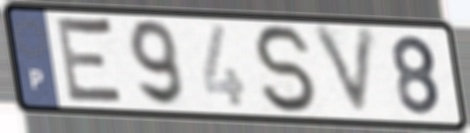4: (200, 22, 249, 111)
8: (390, 32, 444, 118)
9: (124, 18, 189, 110)
E: (54, 12, 129, 111)
S: (250, 22, 324, 117)
V: (308, 23, 381, 122)
